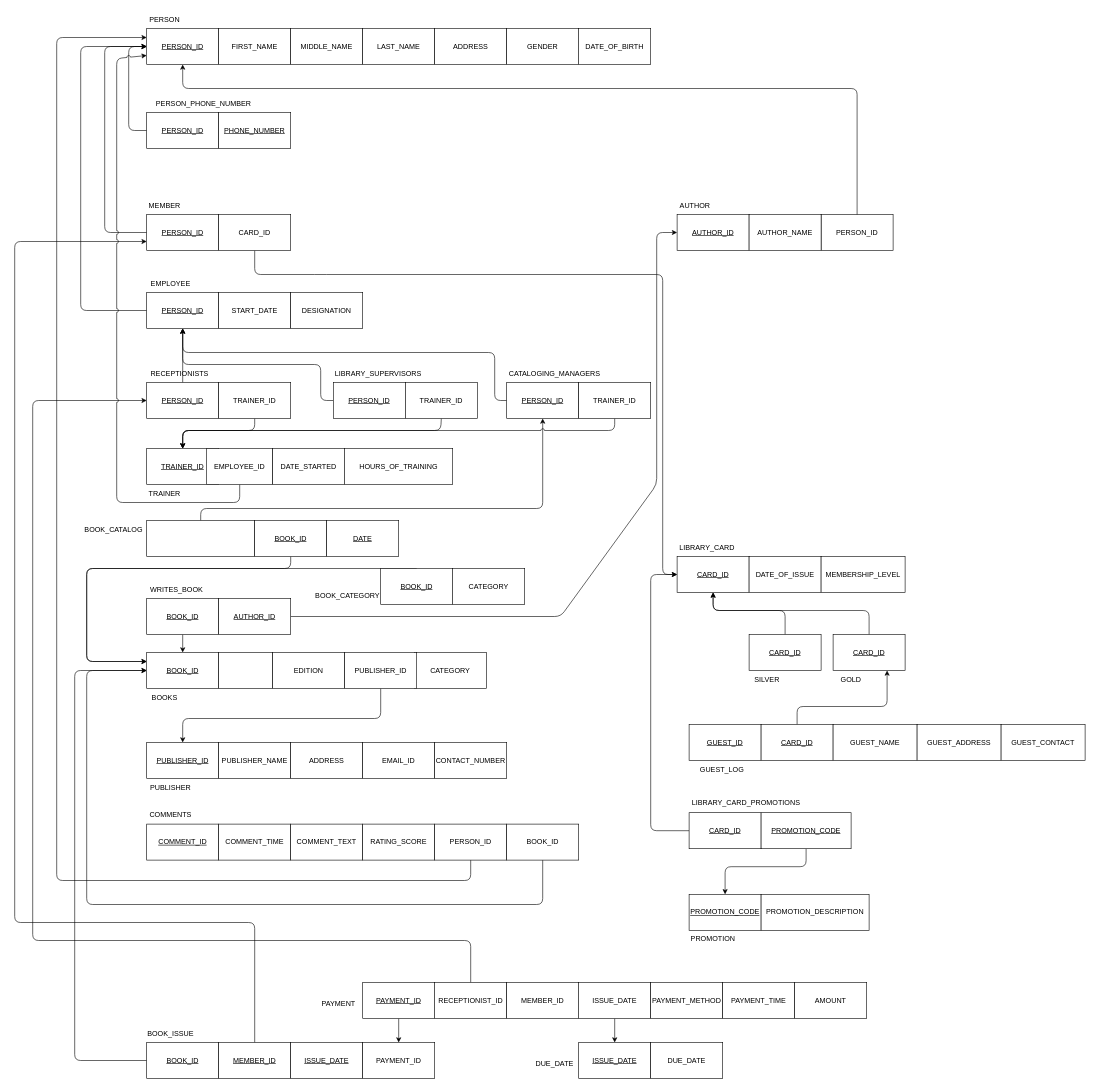
Image size: 1096x1089. Some labels were removed from this diagram. Here are the shapes that lost their labels. From the top down, the centre of each, then its label:
the point at 200,538: CATALOGING_MANAGER_ID
the point at 245,670: BOOK_TITLE
